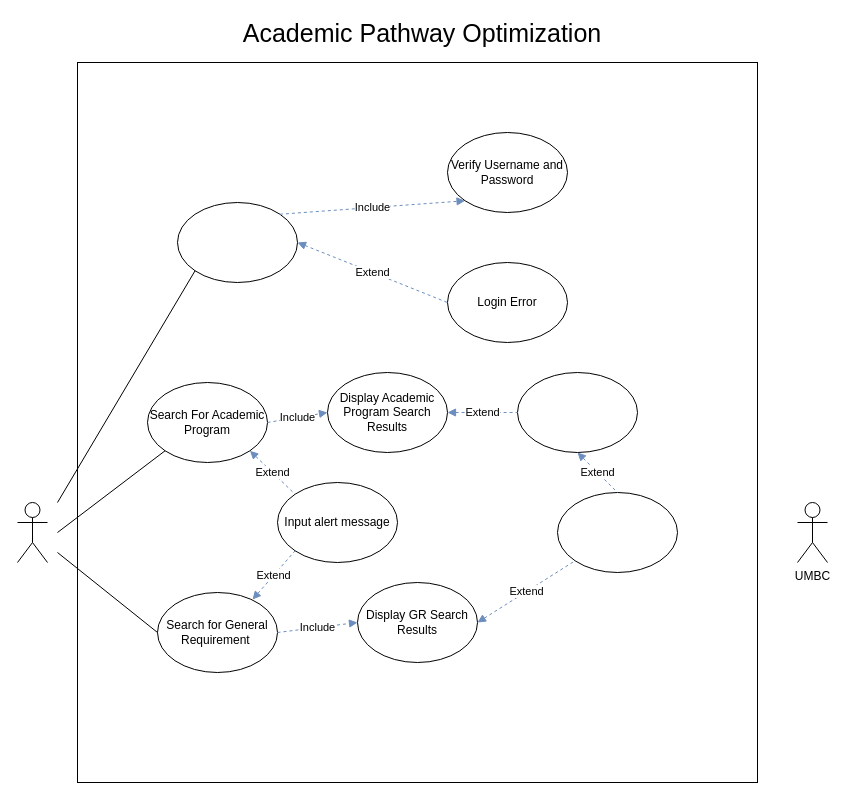
Image size: 847x800. Some labels were removed from this diagram. The centre of each missing label's shape, as x and y in pixels:
"Display Class Information" belongs at point 617,532.
"Display Major/Certification Information" belongs at point 577,412.
"Login" belongs at point 237,242.
"User" belongs at point 32,532.
